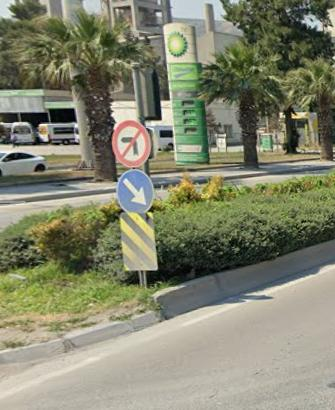leftturnsareforbidden: (112, 119, 150, 166)
